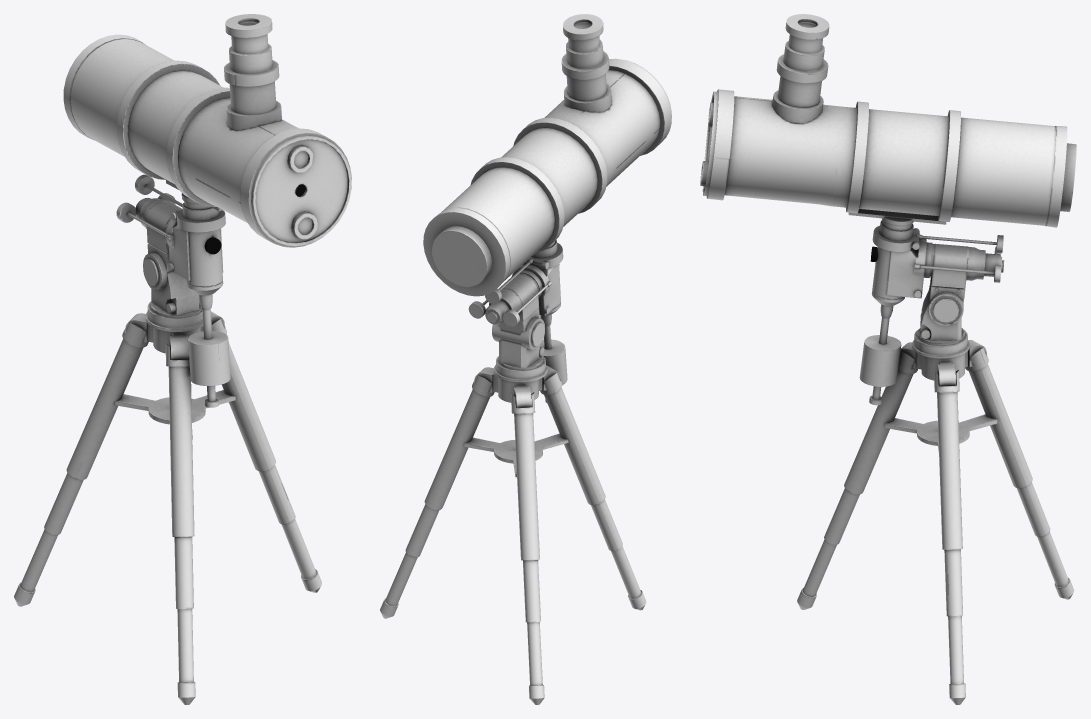
Rendered from TeleScope_3.fbx.
3 views of the same model, side by side, from view 1: azimuth 30°, elevation 25°; view 2: azimuth 150°, elevation 25°; view 3: azimuth 270°, elevation 25° (orthographic). The views are drawn at different scales.
Parts seen in each view (by area): view 1: Scope_SeperatePart.001, Scope_SeperatePart.003, Scope_SeperatePart.023, Scope_SeperatePart.120, Scope_SeperatePart.107, Scope_SeperatePart.009, Scope_SeperatePart.133, Scope_SeperatePart.010, Scope_SeperatePart.017, Scope_SeperatePart.011, Scope_SeperatePart.012, Scope_SeperatePart.121 (+14 smaller); view 2: Scope_SeperatePart.001, Scope_SeperatePart.008, Scope_SeperatePart.023, Scope_SeperatePart.107, Scope_SeperatePart.133, Scope_SeperatePart.120, Scope_SeperatePart.011, Scope_SeperatePart.012, Scope_SeperatePart.009, Scope_SeperatePart.052, Scope_SeperatePart.108, Scope_SeperatePart.096 (+12 smaller); view 3: Scope_SeperatePart.001, Scope_SeperatePart.023, Scope_SeperatePart.133, Scope_SeperatePart.107, Scope_SeperatePart.120, Scope_SeperatePart.009, Scope_SeperatePart.010, Scope_SeperatePart.008, Scope_SeperatePart.017, Scope_SeperatePart.052, Scope_SeperatePart.050, Scope_SeperatePart.012 (+13 smaller).
Part boxes in pixels (left/top/right/bottom): Scope_SeperatePart.001: left=70, top=38, right=305, bottom=223; Scope_SeperatePart.003: left=255, top=139, right=347, bottom=242; Scope_SeperatePart.023: left=224, top=14, right=279, bottom=114; Scope_SeperatePart.120: left=168, top=366, right=194, bottom=536; Scope_SeperatePart.107: left=66, top=339, right=143, bottom=479; Scope_SeperatePart.009: left=240, top=128, right=351, bottom=247; Scope_SeperatePart.133: left=221, top=343, right=275, bottom=471; Scope_SeperatePart.010: left=166, top=180, right=222, bottom=286; Scope_SeperatePart.017: left=188, top=331, right=230, bottom=385; Scope_SeperatePart.011: left=117, top=60, right=220, bottom=179; Scope_SeperatePart.012: left=166, top=87, right=230, bottom=207; Scope_SeperatePart.121: left=174, top=536, right=193, bottom=608; Scope_SeperatePart.001: left=441, top=70, right=660, bottom=280; Scope_SeperatePart.008: left=423, top=207, right=510, bottom=296; Scope_SeperatePart.023: left=561, top=14, right=609, bottom=101; Scope_SeperatePart.107: left=514, top=413, right=539, bottom=560; Scope_SeperatePart.133: left=424, top=389, right=489, bottom=509; Scope_SeperatePart.120: left=544, top=388, right=605, bottom=504; Scope_SeperatePart.011: left=470, top=157, right=564, bottom=253; Scope_SeperatePart.012: left=513, top=117, right=607, bottom=213; Scope_SeperatePart.009: left=608, top=58, right=671, bottom=155; Scope_SeperatePart.052: left=511, top=264, right=560, bottom=315; Scope_SeperatePart.108: left=523, top=560, right=540, bottom=622; Scope_SeperatePart.096: left=464, top=433, right=566, bottom=473; Scope_SeperatePart.001: left=724, top=96, right=1055, bottom=225; Scope_SeperatePart.023: left=776, top=14, right=829, bottom=107; Scope_SeperatePart.133: left=937, top=391, right=962, bottom=549; Scope_SeperatePart.107: left=968, top=364, right=1032, bottom=488; Scope_SeperatePart.120: left=844, top=369, right=913, bottom=494; Scope_SeperatePart.009: left=702, top=89, right=734, bottom=200; Scope_SeperatePart.010: left=848, top=209, right=946, bottom=299; Scope_SeperatePart.008: left=1046, top=126, right=1076, bottom=227; Scope_SeperatePart.017: left=859, top=335, right=901, bottom=386; Scope_SeperatePart.052: left=886, top=238, right=926, bottom=298; Scope_SeperatePart.050: left=931, top=243, right=968, bottom=288; Scope_SeperatePart.012: left=846, top=101, right=868, bottom=213.
Size of the model in its own units: 50.39 by 130 by 71.93.
Materials: 1 (1 with a texture image).
